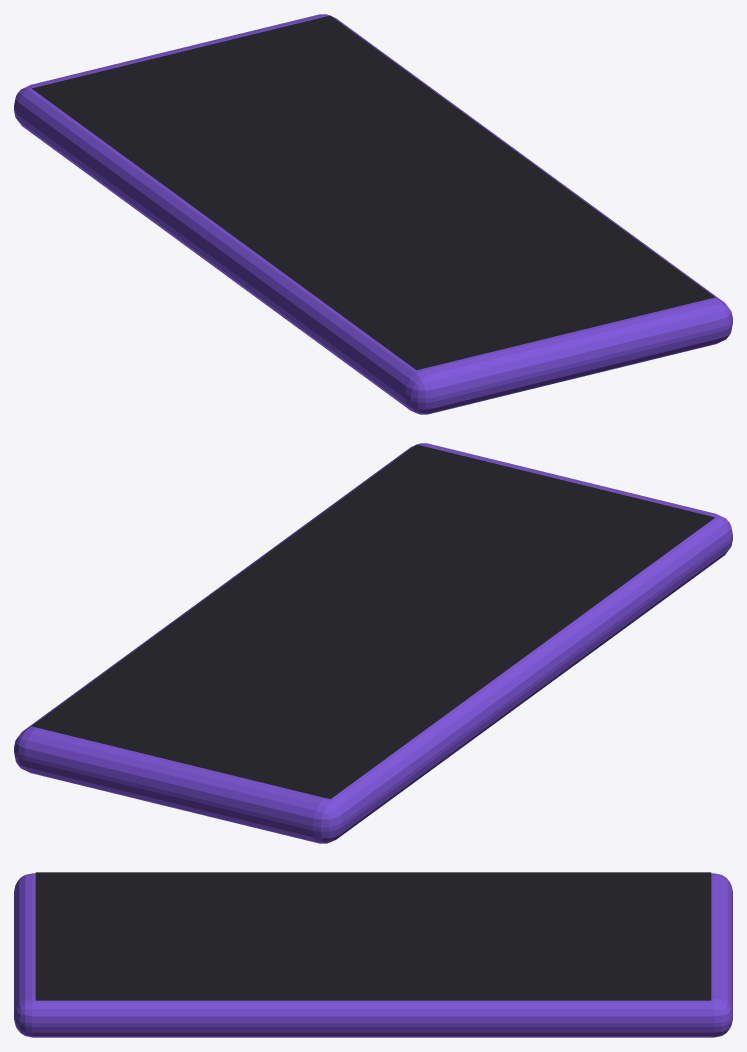
File: vivo-x-model-36-flagship-2026.glb
3 renders of one model, top to bottom at view 1: azimuth 30°, elevation 25°; view 2: azimuth 150°, elevation 25°; view 3: azimuth 270°, elevation 25°, orthographic. The views are drawn at different scales.
Visible parts, largest first — view 1: Phone_Screen, Phone_Body; view 2: Phone_Screen, Phone_Body; view 3: Phone_Screen, Phone_Body.
Boxes of the visible parts, left/top/right/bottom form: Phone_Screen: left=32, top=15, right=714, bottom=370; Phone_Body: left=14, top=14, right=732, bottom=414; Phone_Screen: left=32, top=444, right=714, bottom=799; Phone_Body: left=14, top=443, right=732, bottom=843; Phone_Screen: left=35, top=872, right=711, bottom=1000; Phone_Body: left=14, top=873, right=732, bottom=1037.
Size of the model in its own units: 0.0716 by 0.009 by 0.1563.
